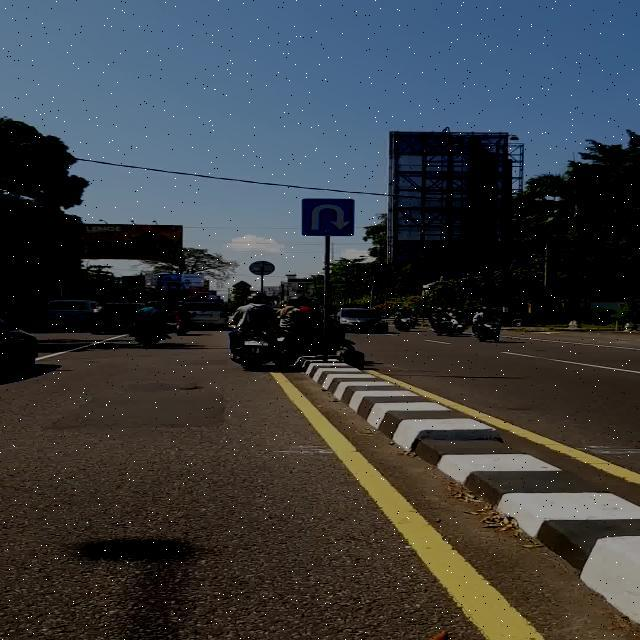Putar Balik: (302, 198, 354, 236)
